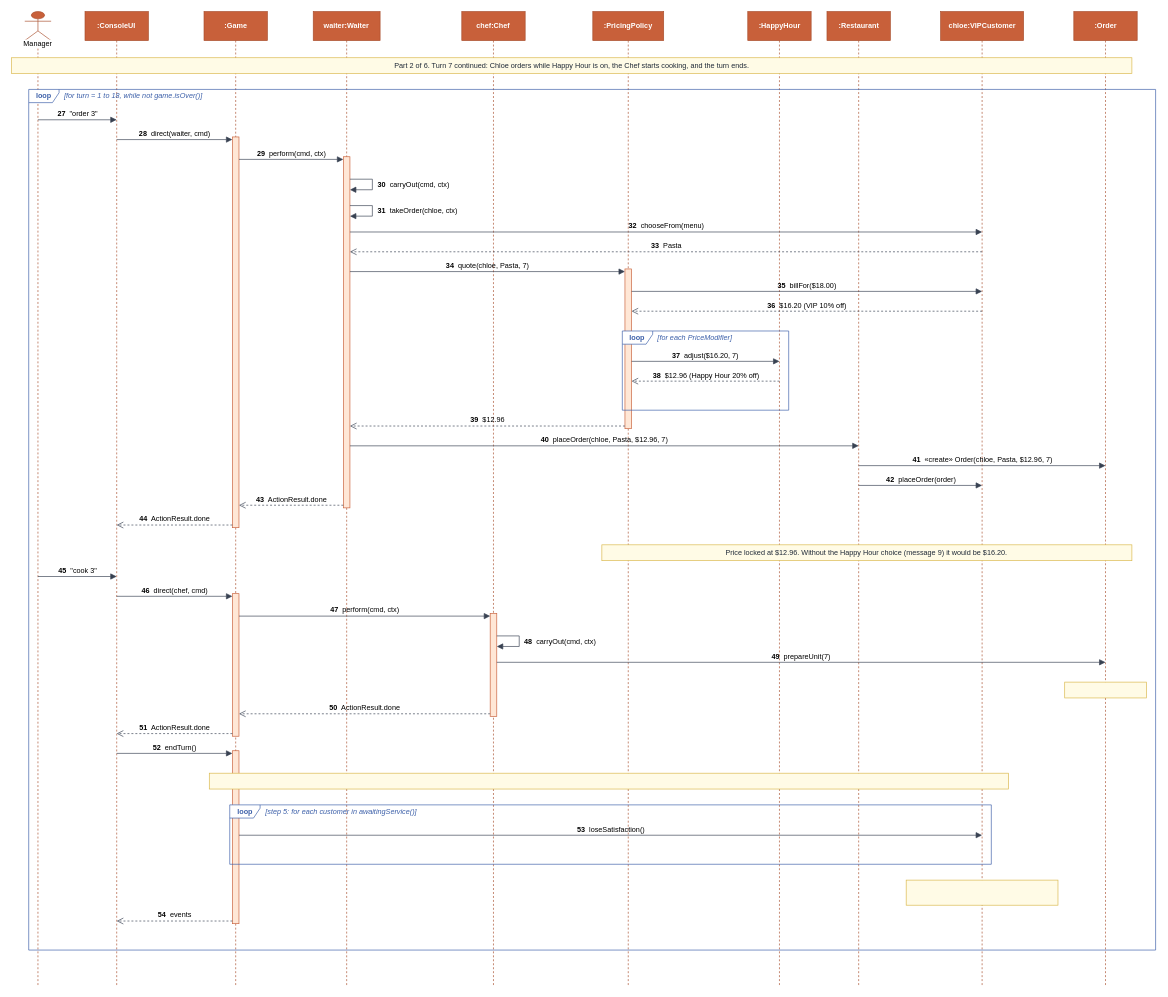
Some shapes in this 1168 by 997 pixel diagram are drawn without their labels. Here are the shapes that lost their labels. From the top down, the centre of each, then its label:
At (1105,689): "1 of 2 units done".
At (608,781): "step 4: nobody finishes eating or pays this turn".
At (982,892): "VIP loses 5: 100 to 95 (Ben, a Critic, loses 12)".
